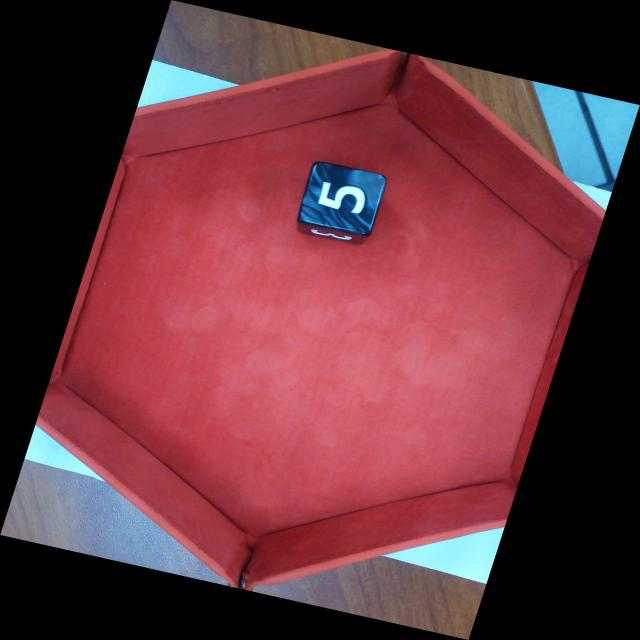dice: (296, 159, 389, 237)
